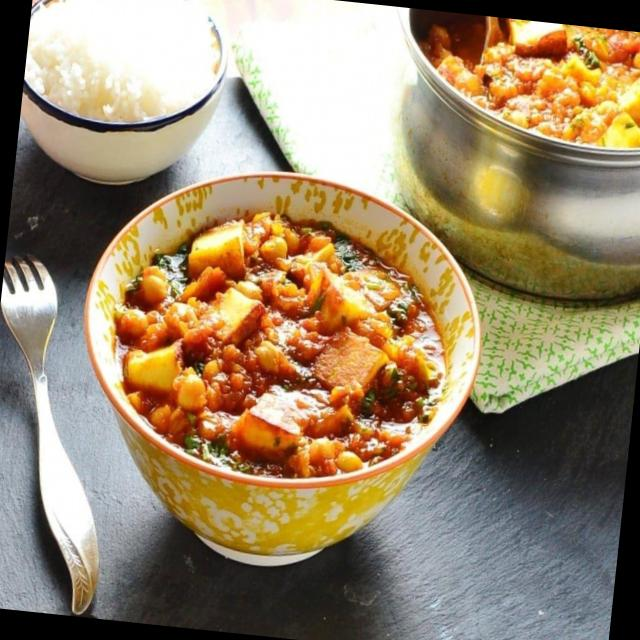rice: (44, 0, 183, 113)
